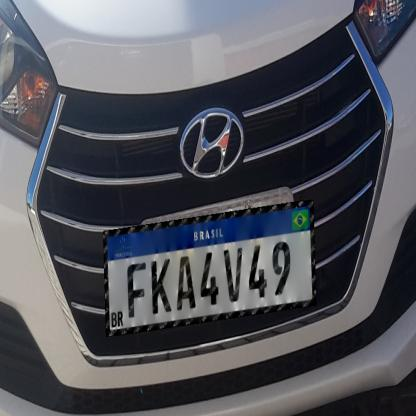PlacaM: (103, 200, 317, 337)
